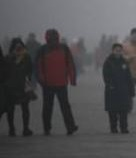person: (36, 28, 80, 137), (101, 43, 136, 135), (4, 38, 35, 137), (122, 28, 136, 91), (78, 36, 87, 75), (69, 38, 78, 73), (99, 33, 106, 70), (25, 33, 39, 50), (94, 46, 100, 70), (108, 35, 114, 49), (113, 34, 120, 45)
